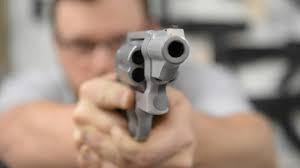gun: (101, 25, 194, 168)
